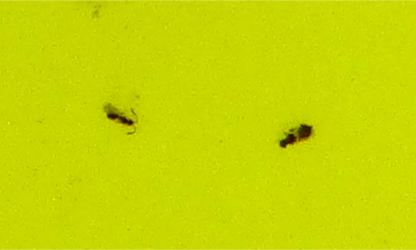Coleoptera: (275, 121, 316, 150)
Hymenoptera: (100, 100, 139, 136)
